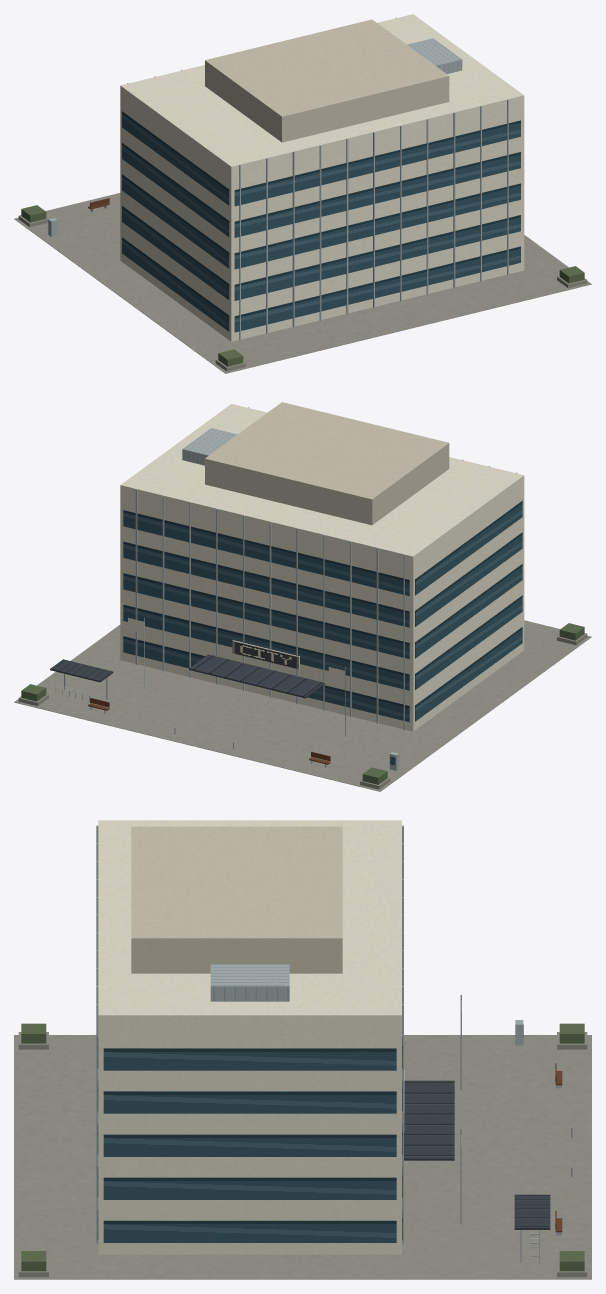
Rendered from city_hall_001.obj.
The picture shows the model from 3 angles, top to bottom: view 1: azimuth 30°, elevation 25°; view 2: azimuth 150°, elevation 25°; view 3: azimuth 270°, elevation 25°; orthographic projection. The views are drawn at different scales.
Parts seen in each view (by area): view 1: city_hall_001; view 2: city_hall_001; view 3: city_hall_001.
Part boxes in pixels (x1,y1,x2,y2): city_hall_001: (14, 14, 591, 373); city_hall_001: (14, 402, 591, 791); city_hall_001: (14, 820, 591, 1279).
Bounding box in the file's own units: 43.8 × 23 × 43.8.
1 material, 1 textured.
